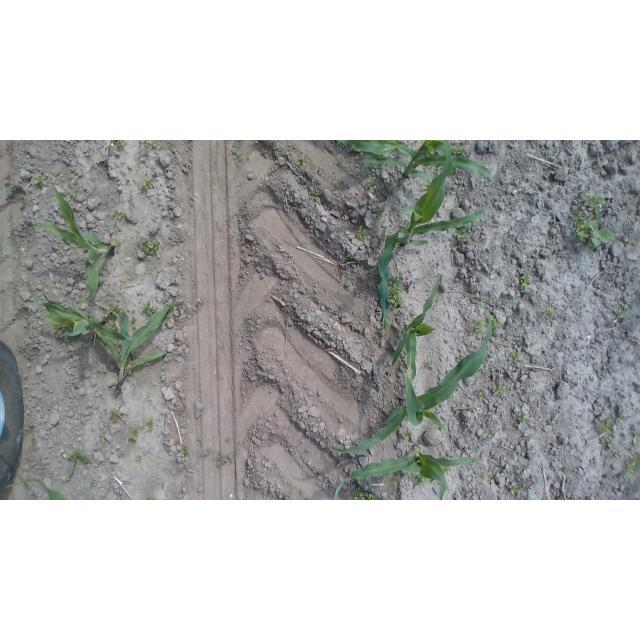Maize: (329, 296, 493, 455), (378, 140, 490, 320), (21, 179, 115, 313), (98, 302, 194, 399), (338, 140, 498, 194), (335, 444, 486, 500), (20, 278, 130, 343), (392, 275, 442, 381), (6, 480, 67, 500), (518, 466, 529, 500), (89, 492, 95, 500)
Weeds: (571, 184, 616, 248), (65, 449, 91, 476), (137, 236, 162, 258), (390, 276, 403, 306), (351, 485, 377, 500), (383, 478, 401, 497), (626, 452, 640, 475), (215, 453, 235, 468), (599, 416, 613, 437), (517, 274, 532, 291), (107, 406, 124, 421), (141, 301, 157, 315), (472, 317, 485, 334), (143, 414, 156, 431), (367, 176, 381, 191), (493, 380, 506, 396), (508, 349, 522, 363), (354, 224, 366, 240), (453, 228, 467, 241), (140, 177, 152, 192), (138, 141, 158, 150), (542, 306, 557, 318), (106, 303, 118, 318), (110, 239, 122, 253), (309, 190, 323, 202), (619, 305, 630, 320), (68, 187, 79, 201), (113, 210, 127, 221), (401, 428, 413, 440), (128, 428, 140, 440), (491, 316, 502, 329), (625, 235, 636, 247), (373, 206, 383, 218), (421, 359, 433, 369), (417, 474, 429, 484), (179, 444, 189, 456), (33, 173, 44, 183), (453, 144, 464, 154), (517, 412, 527, 423), (486, 428, 496, 438), (380, 319, 389, 330), (108, 322, 119, 331), (615, 415, 626, 424), (607, 438, 616, 449), (231, 148, 239, 160), (510, 483, 519, 493), (116, 141, 128, 148), (381, 227, 386, 243), (483, 472, 492, 480), (346, 253, 356, 260), (633, 436, 640, 446), (478, 387, 486, 395), (204, 448, 212, 456), (297, 157, 304, 166), (146, 494, 156, 500), (505, 423, 511, 432), (137, 454, 143, 462), (90, 482, 95, 491), (132, 318, 137, 327), (552, 418, 559, 424), (225, 437, 231, 444), (285, 493, 291, 499), (374, 334, 381, 339), (445, 467, 451, 472), (558, 496, 564, 501), (392, 406, 398, 411), (352, 430, 357, 435), (73, 178, 77, 184), (107, 140, 111, 146), (65, 387, 69, 392), (382, 497, 388, 500), (544, 497, 549, 500), (40, 185, 44, 188)
